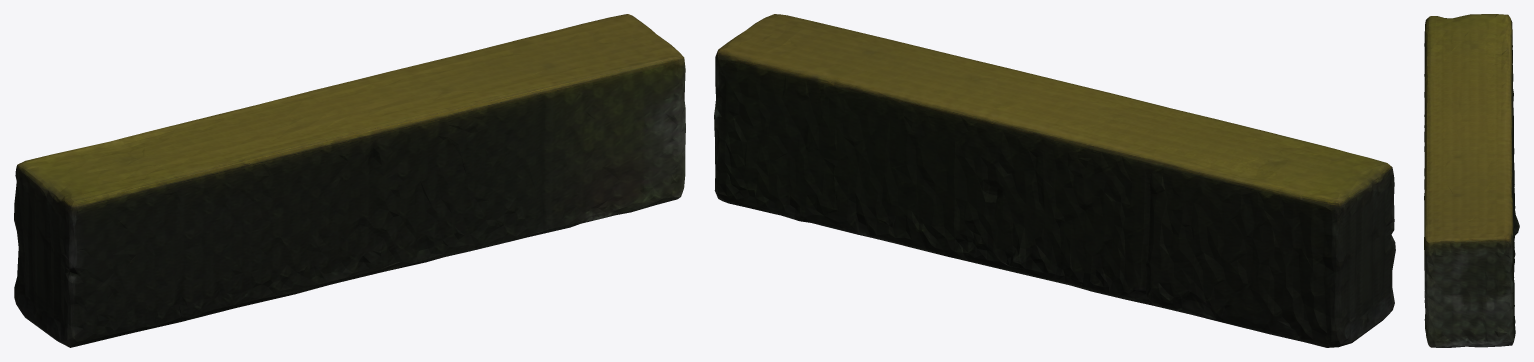
File: GKG_Grass.glb
The picture shows the model from 3 angles, left to right: view 1: azimuth 30°, elevation 25°; view 2: azimuth 150°, elevation 25°; view 3: azimuth 270°, elevation 25°; orthographic projection. The views are drawn at different scales.
Parts seen in each view (by area): view 1: world; view 2: world; view 3: world.
Boxes of the visible parts, x1=… form: world: x1=14, y1=14, x2=685, y2=347; world: x1=714, y1=14, x2=1395, y2=347; world: x1=1424, y1=14, x2=1519, y2=347.
Size of the model in its own units: 0.9964 by 0.2301 by 0.1775.
1 material, 1 textured.
